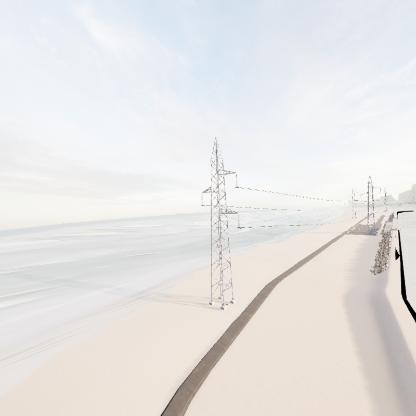tower: (198, 136, 244, 315)
